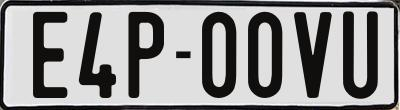0: (246, 10, 282, 102), (200, 9, 238, 96)
4: (76, 9, 117, 101)
E: (30, 11, 65, 97)
P: (126, 10, 163, 100)
U: (343, 8, 378, 98)
V: (293, 11, 331, 101)
